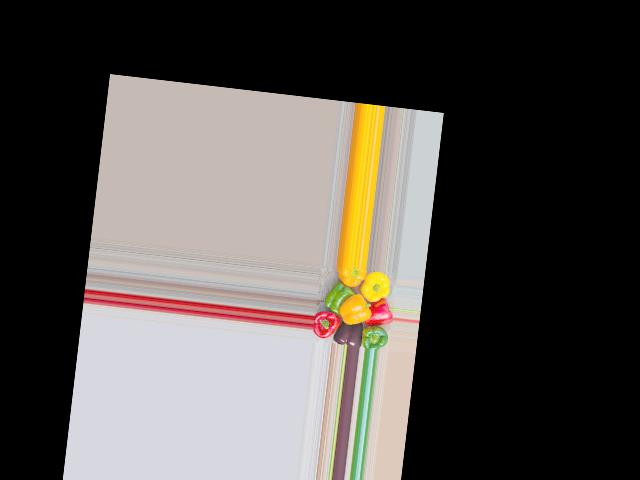bell_pepper: (326, 265, 366, 295)
